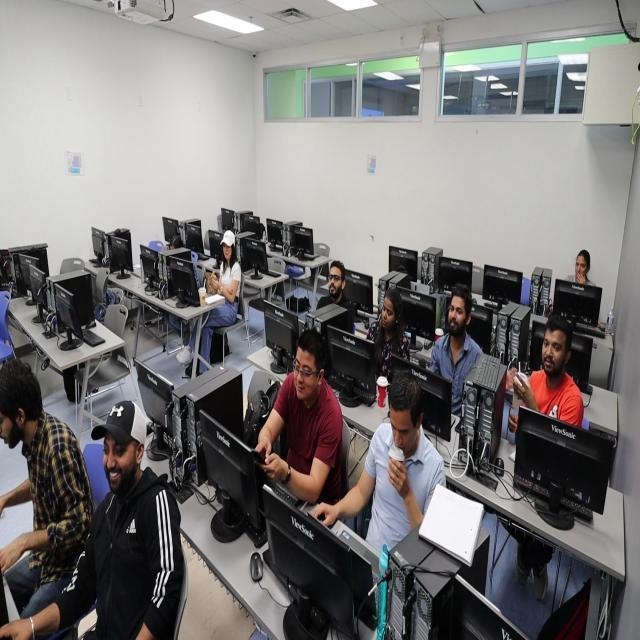Looking away: (388, 402, 416, 456), (294, 345, 318, 402), (0, 396, 18, 448), (380, 296, 396, 330)
Looking forward: (101, 431, 132, 493), (542, 327, 566, 374), (448, 294, 466, 335), (328, 266, 342, 297), (574, 253, 588, 278), (222, 241, 232, 261)
